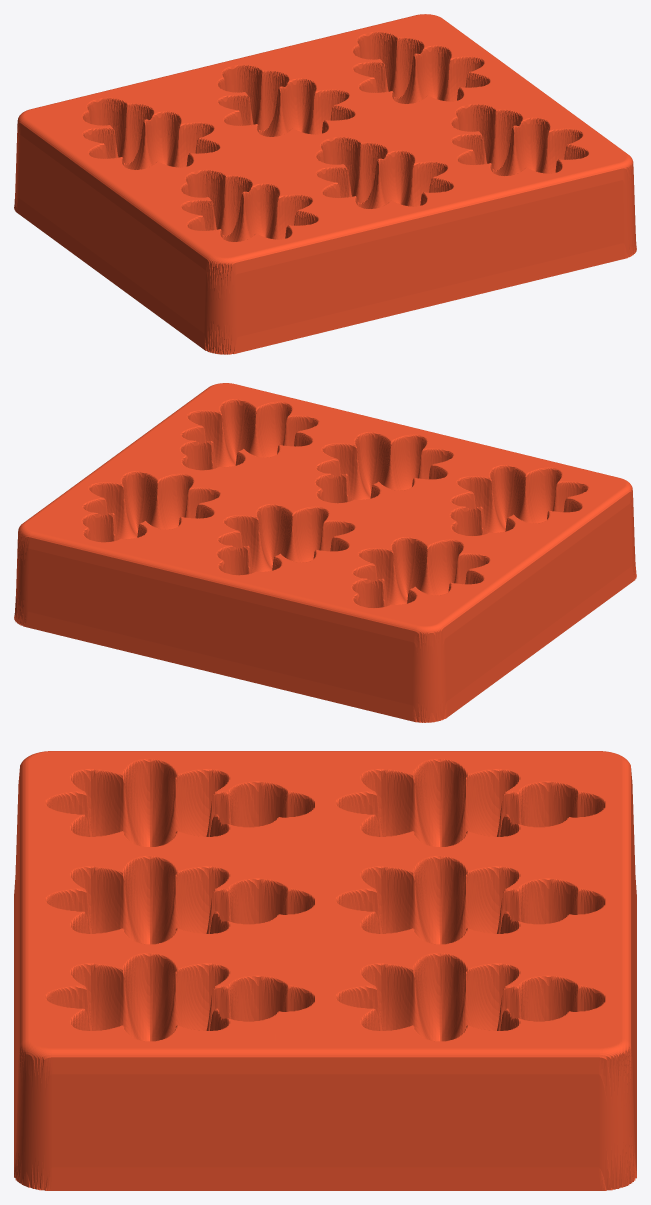
Rendered from mold.glb.
3 renders of one model, top to bottom at view 1: azimuth 30°, elevation 25°; view 2: azimuth 150°, elevation 25°; view 3: azimuth 270°, elevation 25°, orthographic. The views are drawn at different scales.
Parts seen in each view (by area): view 1: geometry_0; view 2: geometry_0; view 3: geometry_0.
Part boxes in pixels (left/top/right/bottom): geometry_0: left=14, top=14, right=636, bottom=354; geometry_0: left=14, top=383, right=636, bottom=722; geometry_0: left=14, top=751, right=636, bottom=1190.
Bounding box in the file's own units: 0.1753 × 0.036 × 0.1492.
